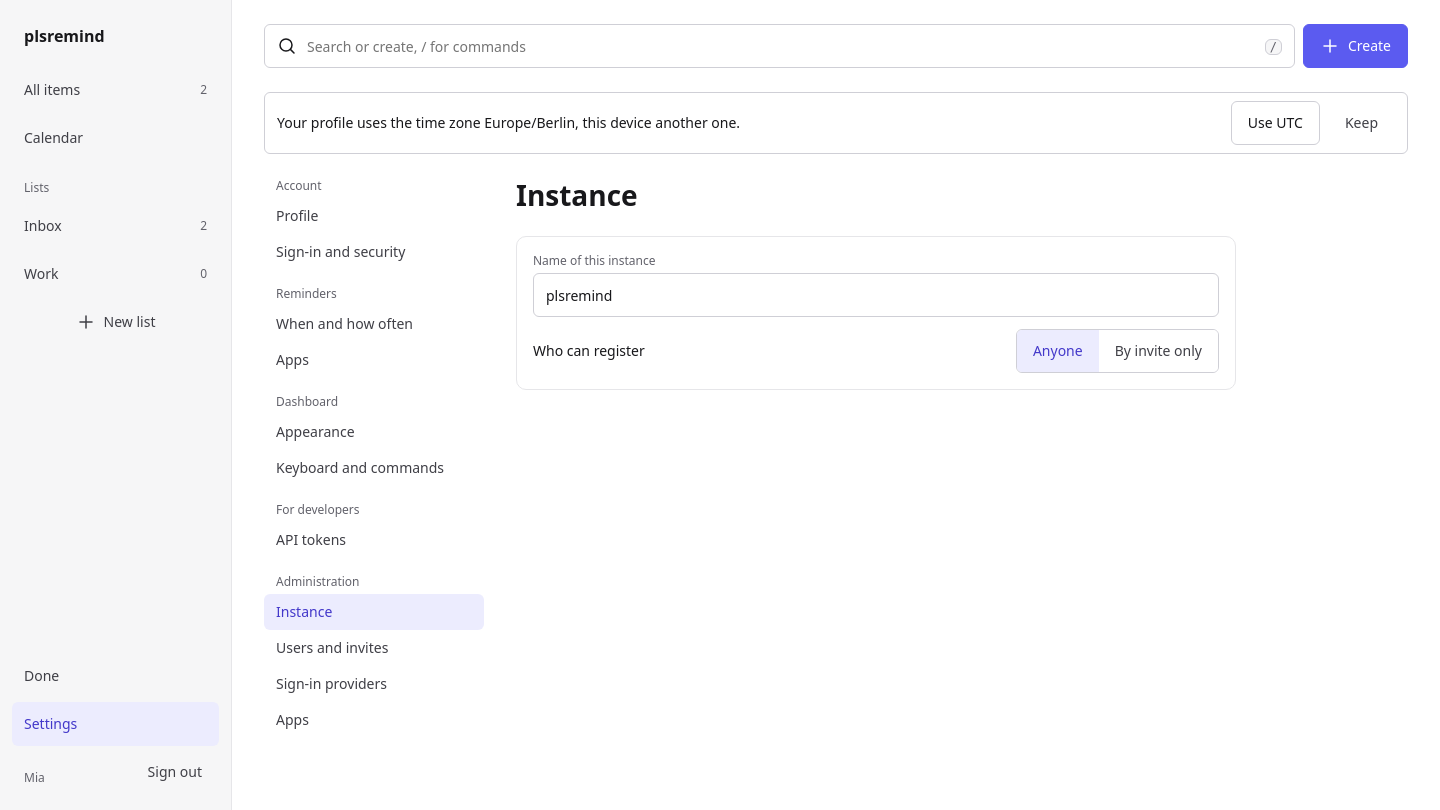
Test: a name the hub refuses falls back to the stored one
The width and height of the screenshot is (1440, 810).
Expected: the navigation bar named "Settings" is shown, [264, 178, 484, 738]
Replace the text in the field labelled "Name of this instance" with "Something else" at [876, 295], box [533, 273, 1219, 317]
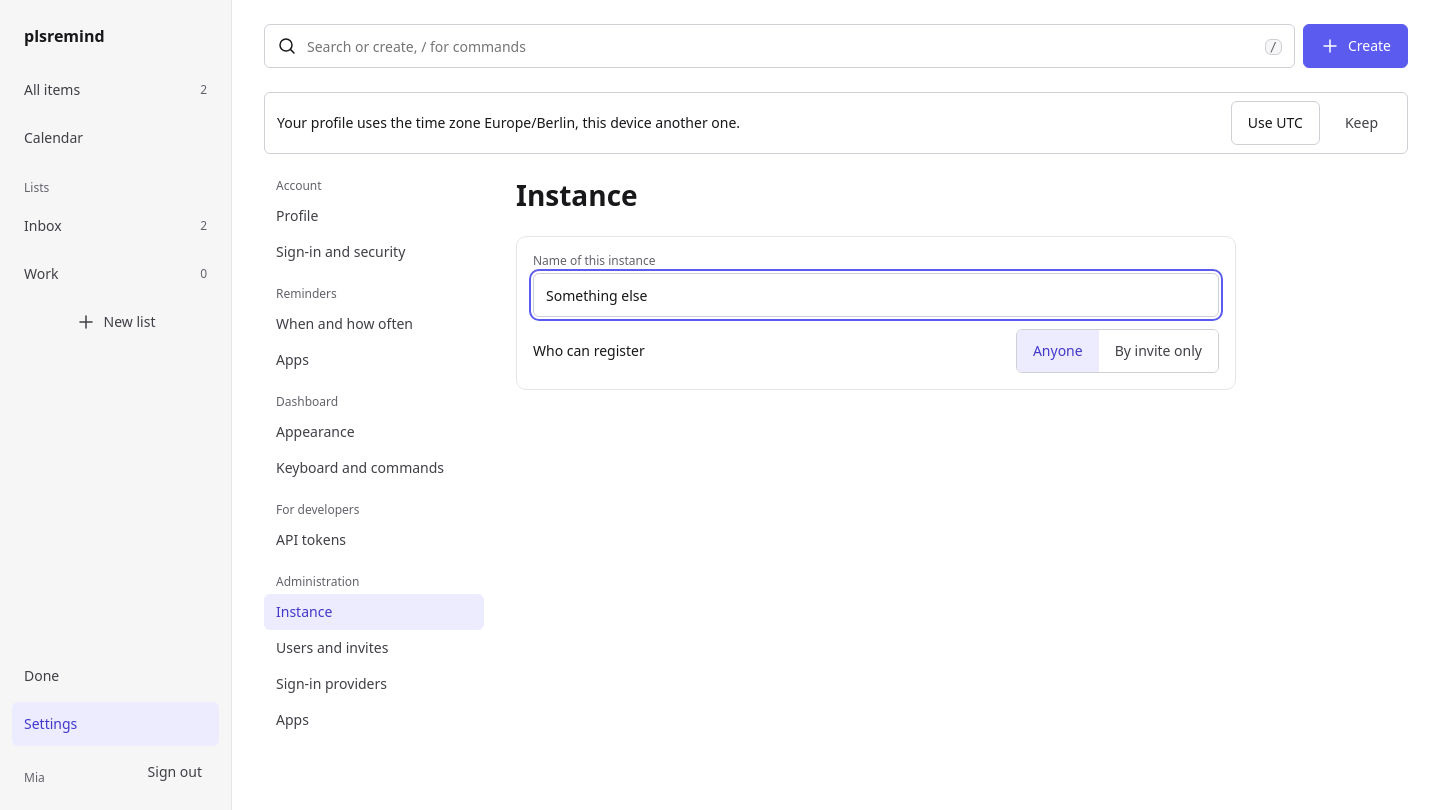
Press Tab
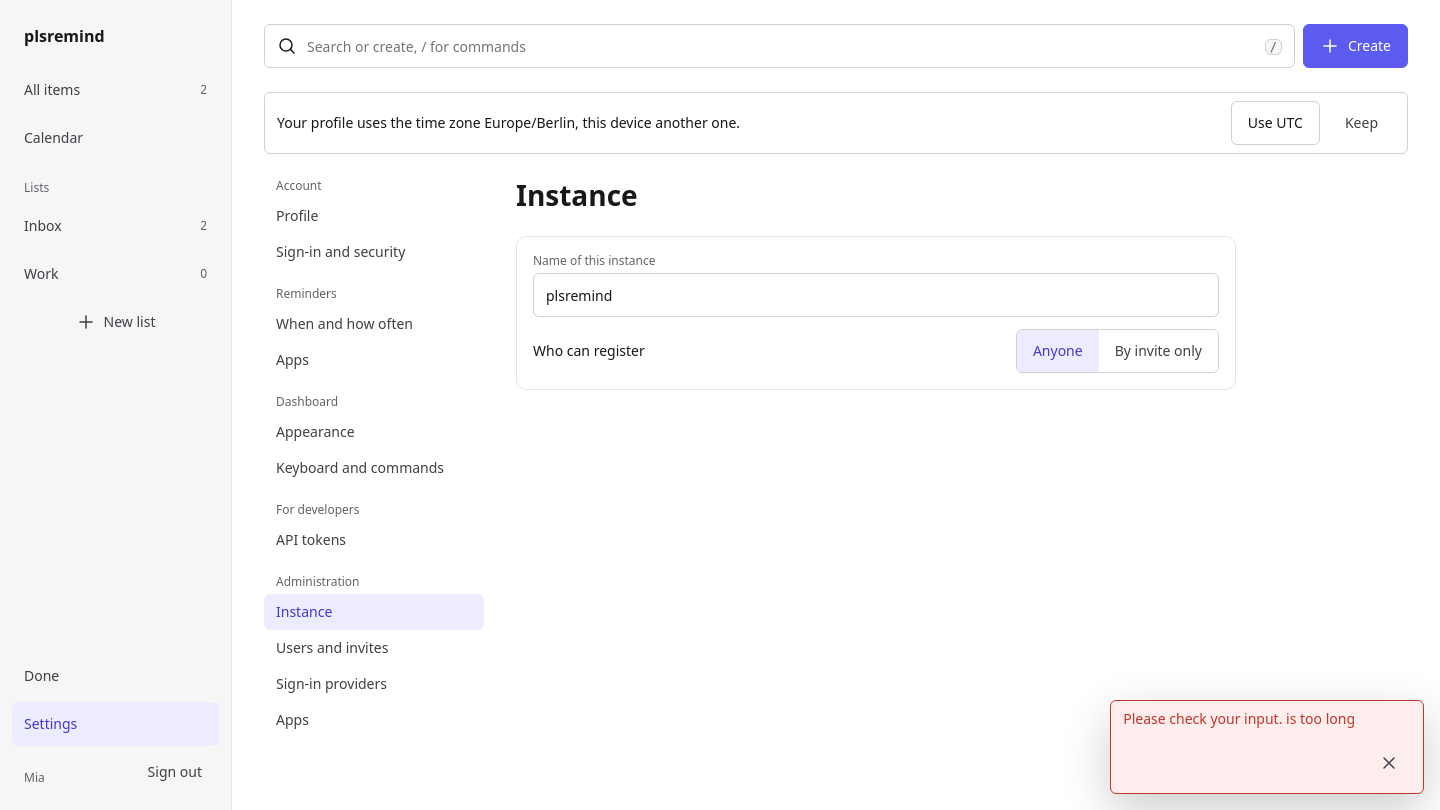
Expected: the message "Please check your input. is too long" is shown, [1110, 700, 1424, 794]
Expected: the field labelled "Name of this instance" holds "plsremind", [533, 273, 1219, 317]
